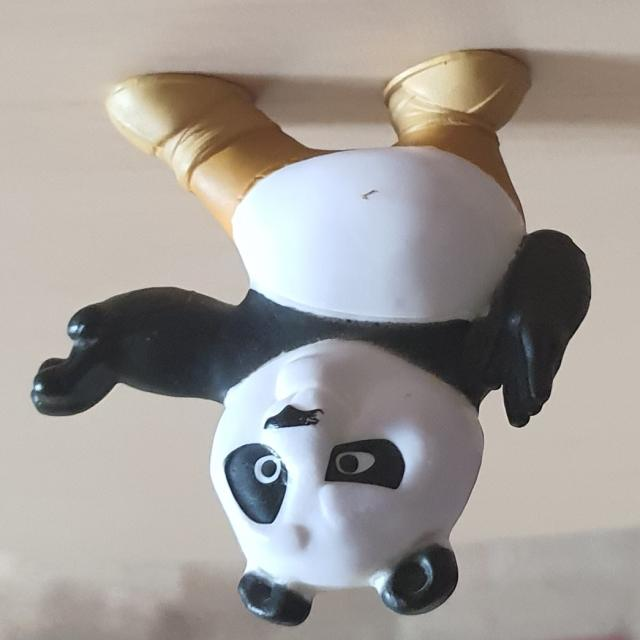Panda: (30, 49, 592, 628)
